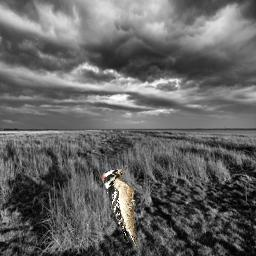Woodpecker: (102, 167, 137, 246)
